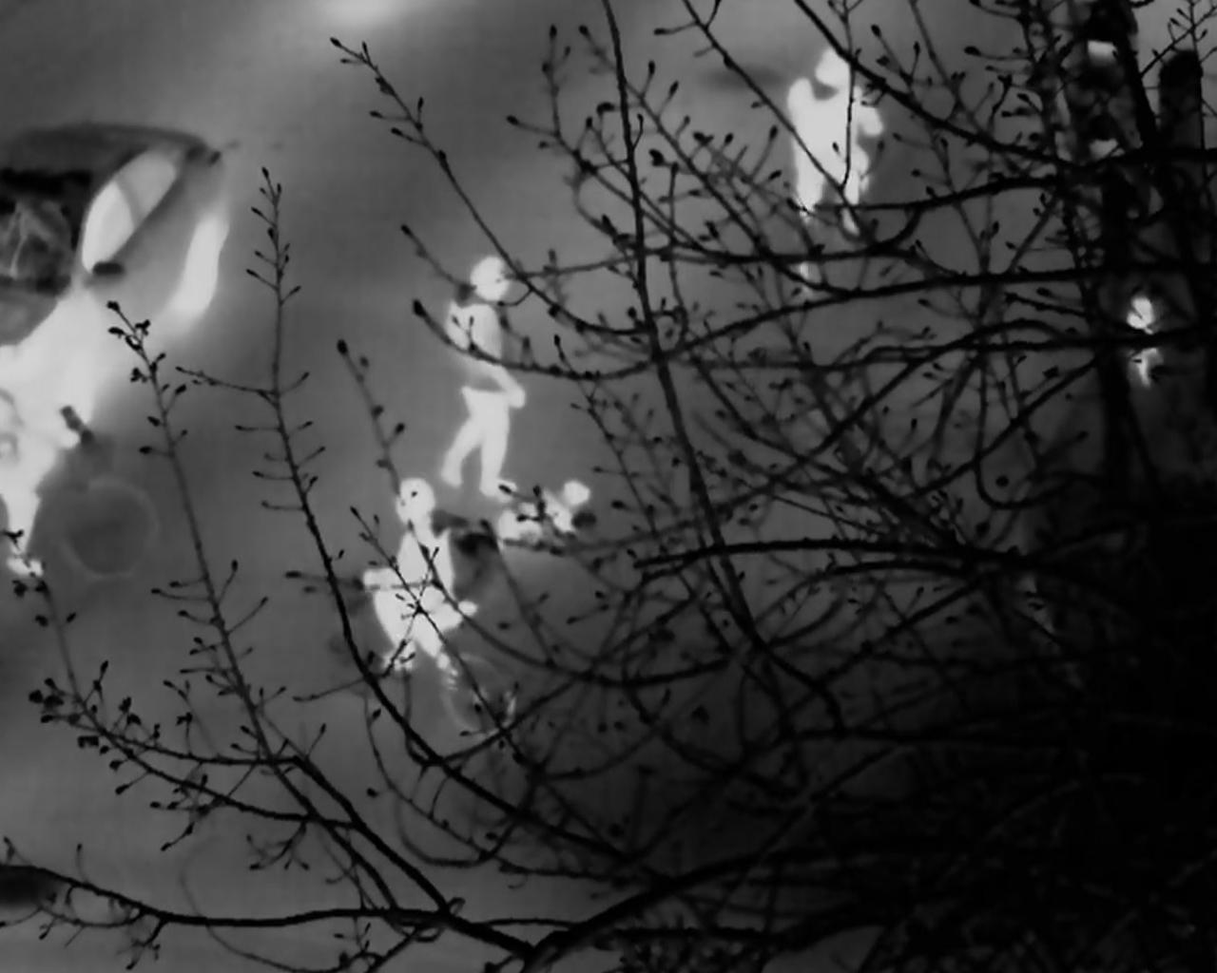person: (771, 33, 892, 287), (377, 476, 479, 665), (451, 254, 525, 498)
